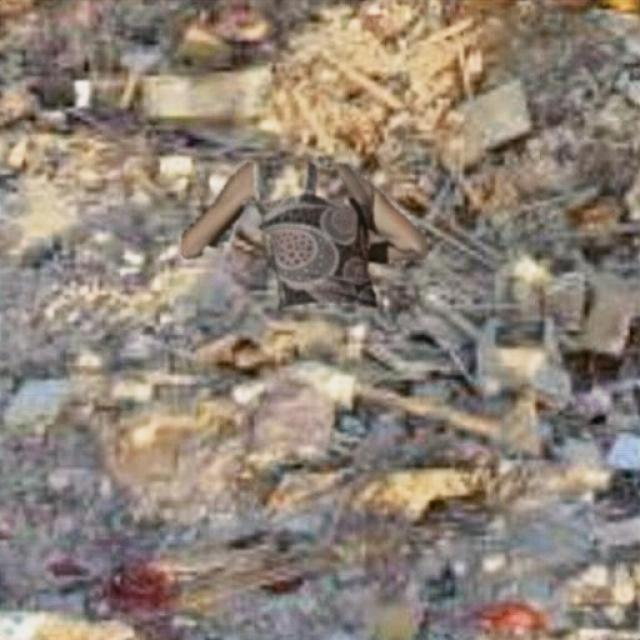Person in Rubble: (181, 156, 430, 309)
